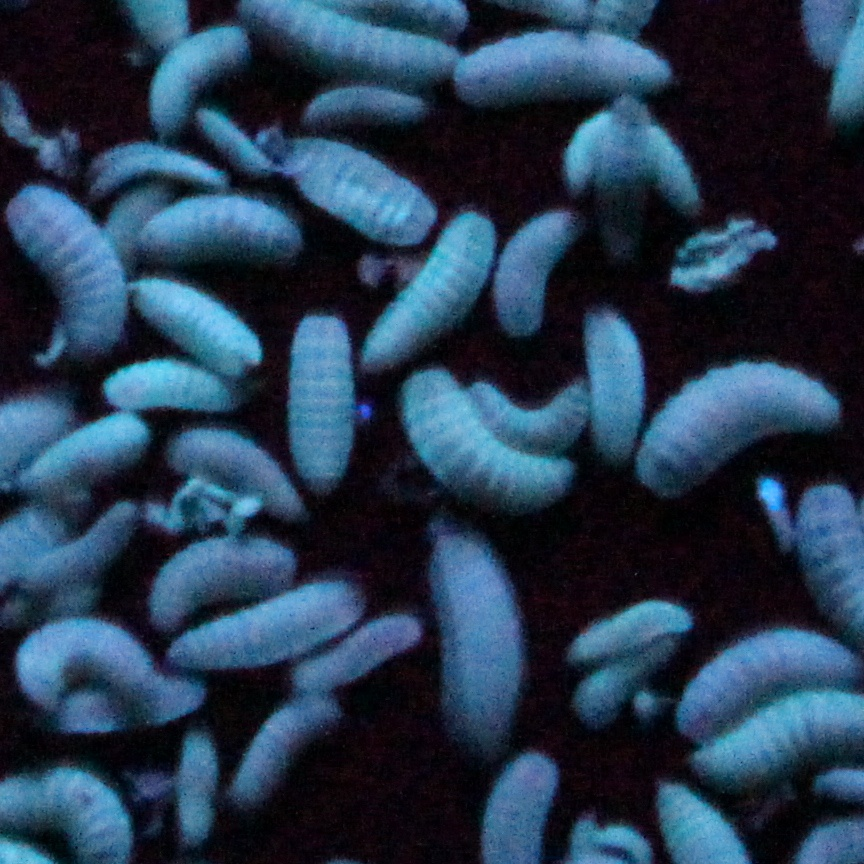larve: (637, 366, 837, 492), (389, 371, 563, 510), (45, 177, 163, 362), (358, 218, 486, 372), (426, 531, 517, 743), (8, 182, 116, 354), (676, 630, 858, 731), (280, 131, 435, 243), (170, 580, 360, 662), (4, 617, 153, 713), (452, 33, 673, 94), (565, 107, 699, 192), (152, 543, 286, 625), (171, 430, 303, 512), (126, 282, 258, 364), (288, 308, 347, 490), (153, 23, 253, 130), (496, 207, 578, 333), (570, 635, 675, 726), (583, 313, 644, 466), (45, 677, 204, 735), (137, 197, 296, 254), (19, 418, 144, 490), (237, 703, 326, 802), (296, 618, 421, 685), (467, 385, 596, 449), (19, 510, 129, 574), (104, 361, 253, 408), (573, 605, 689, 659), (73, 146, 222, 185), (171, 736, 219, 840), (308, 90, 427, 123)
